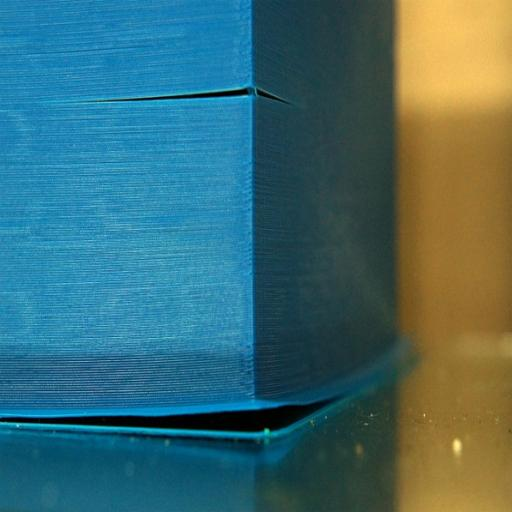cracks: (1, 387, 345, 446), (78, 78, 304, 144)
